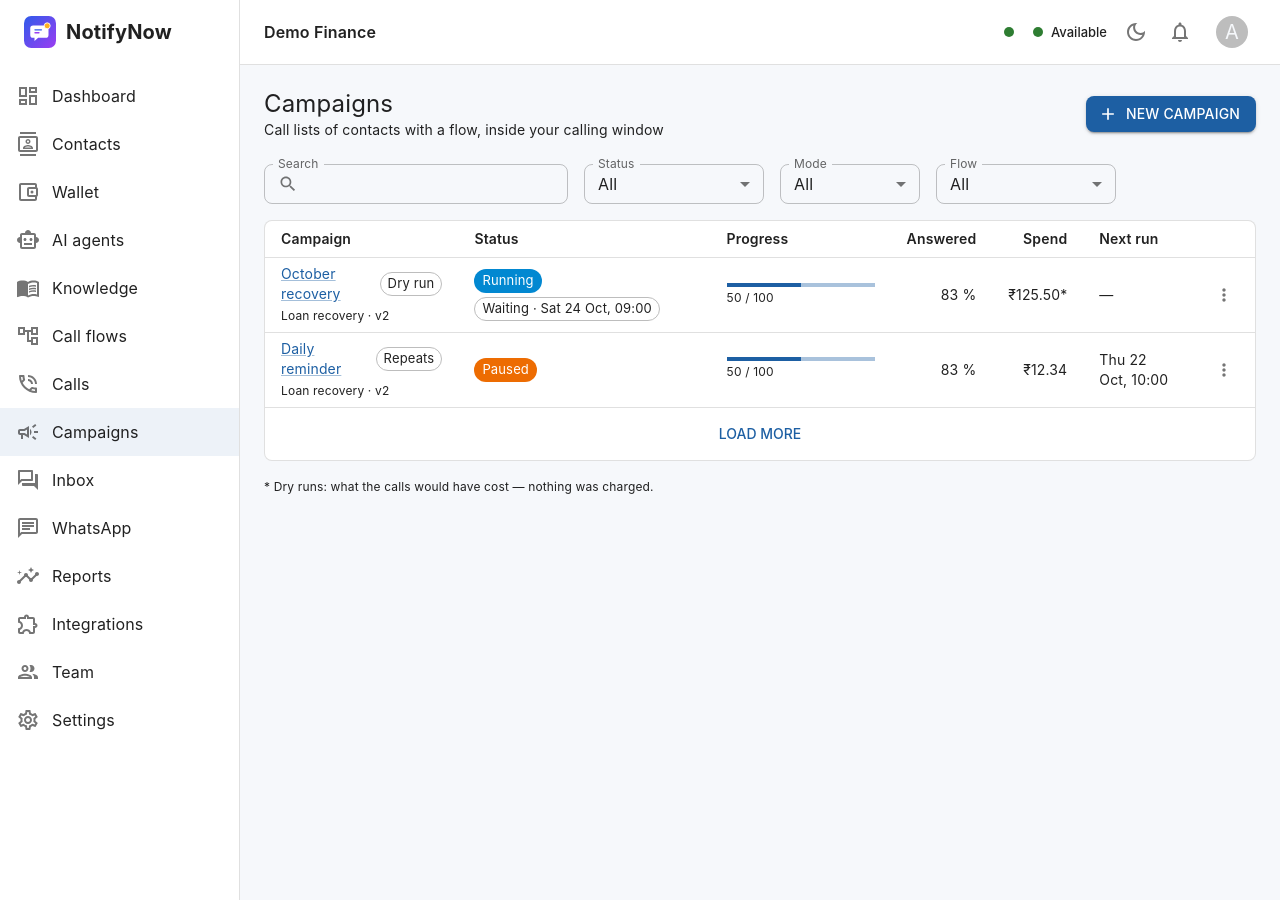
Scenario: /campaigns list › rows: name, dry-run badge, flow + version, status + waiting, progress, answered, would-have-cost, next run; load more
expect the text "Dry run" is shown: met, box [388, 275, 434, 291]
expect the text "Loan recovery · v2" is shown 2 times: met, box [281, 308, 389, 323]; [281, 383, 389, 398]
Click the button "Load more" at (760, 434), box [711, 416, 809, 452]
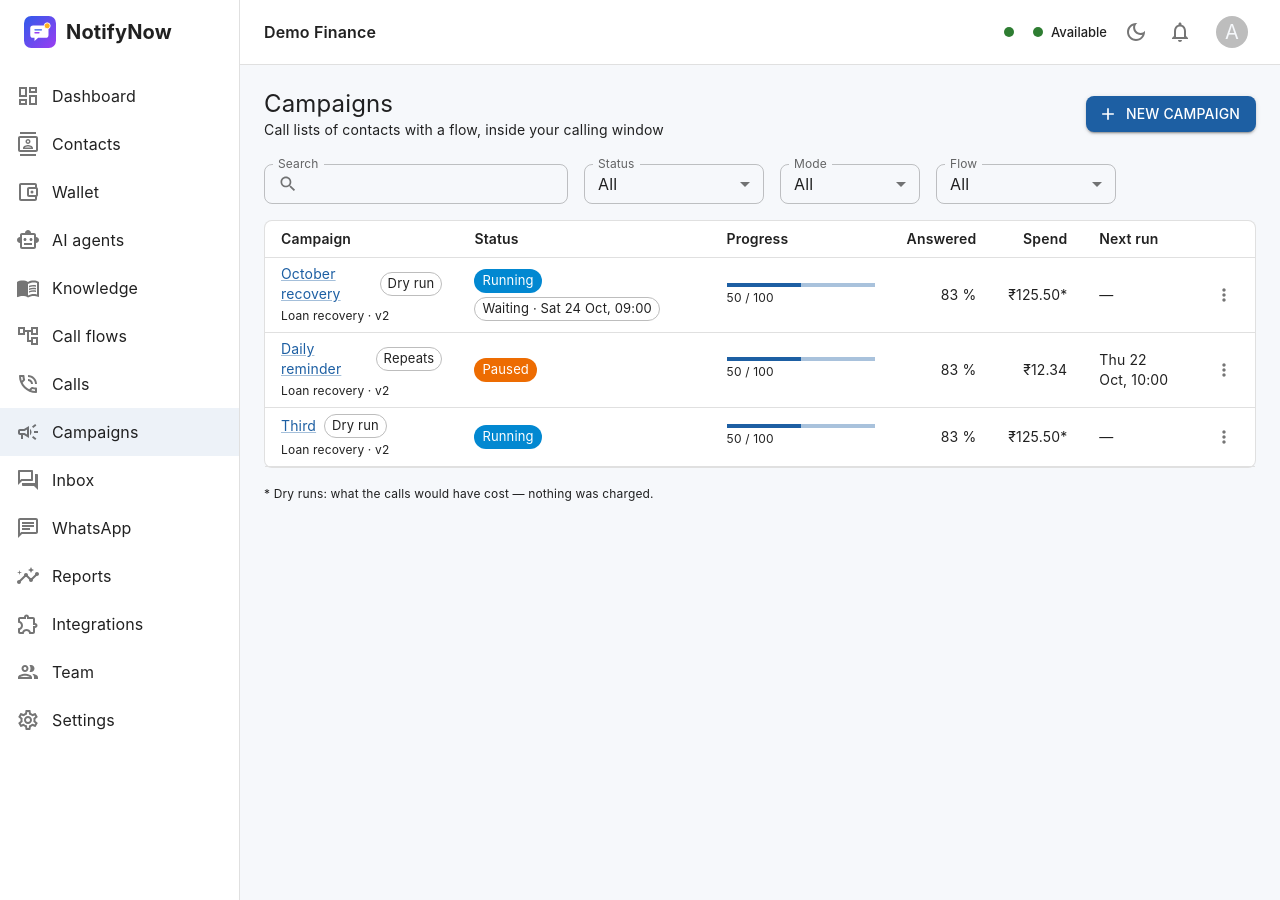
expect the link "Third" is shown: met, box [281, 416, 316, 436]
